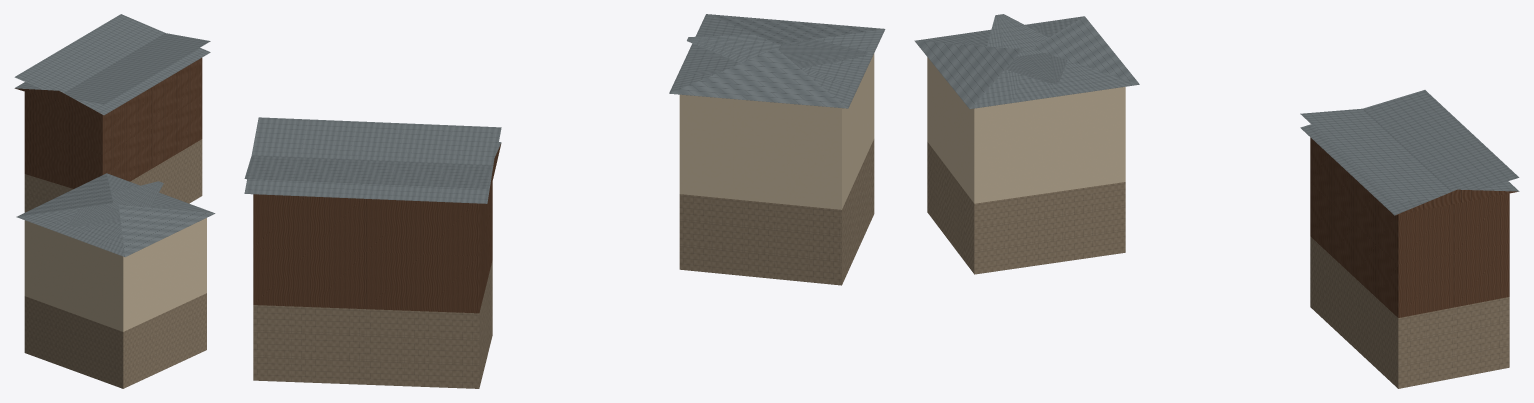
The model's file is bld_c22_31_378.gltf.
The picture shows the model from 3 angles, left to right: view 1: azimuth 30°, elevation 25°; view 2: azimuth 150°, elevation 25°; view 3: azimuth 270°, elevation 25°; orthographic projection. The views are drawn at different scales.
Visible parts, largest first — view 1: bld_c22_31_378; view 2: bld_c22_31_378; view 3: bld_c22_31_378.
Boxes of the visible parts, left/top/right/bottom form: bld_c22_31_378: left=14, top=14, right=215, bottom=388; bld_c22_31_378: left=244, top=14, right=885, bottom=388; bld_c22_31_378: left=914, top=14, right=1519, bottom=388.
Bounding box in the file's own units: 29.94 × 14.2 × 39.5.
Materials: 5 (5 with a texture image).
